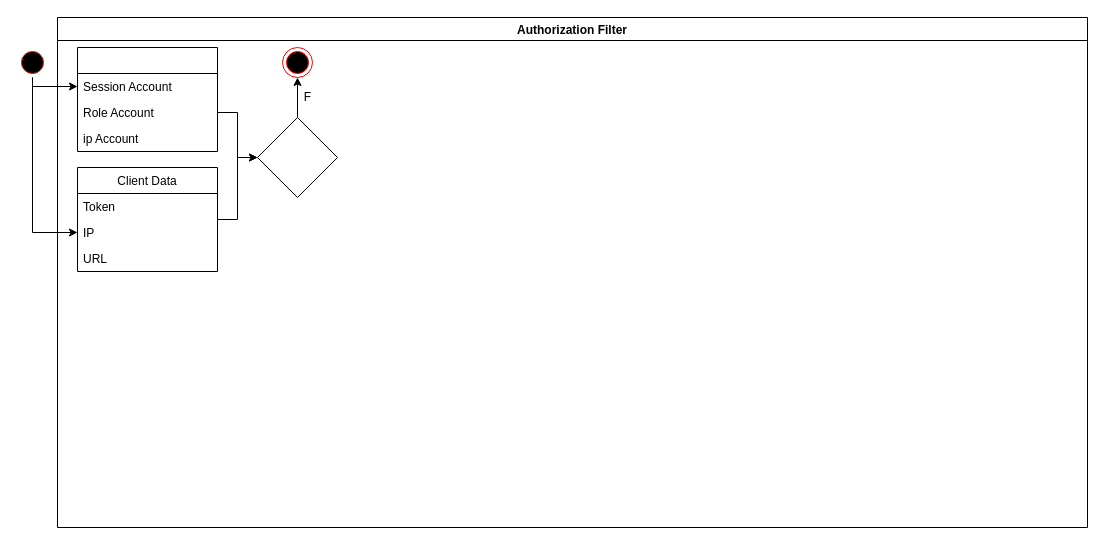
This 1105x545 diagram has some shape labels left out. Each missing label, with the box of its shape:
Cache Server: (76, 46, 218, 152)
URL Home: (256, 116, 338, 198)
